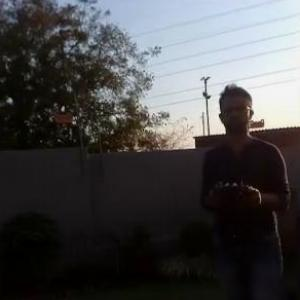follow: (196, 77, 296, 299)
